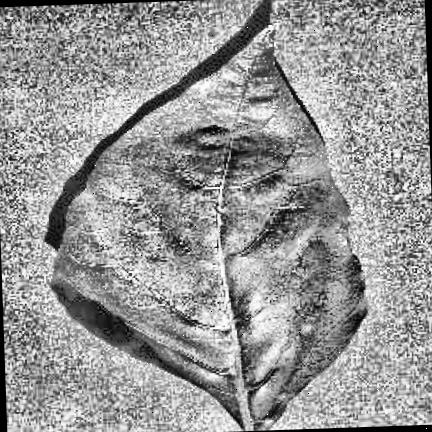leaf: (51, 26, 366, 429)
